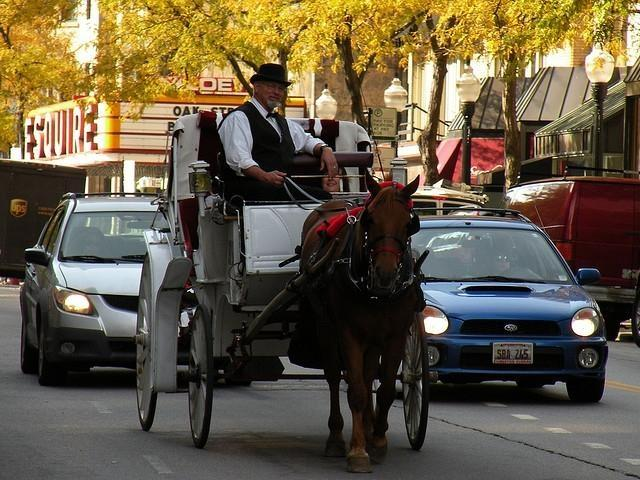car: (414, 208, 606, 404), (20, 191, 160, 389), (412, 186, 490, 220)
truck: (501, 172, 640, 344), (2, 154, 92, 284)
